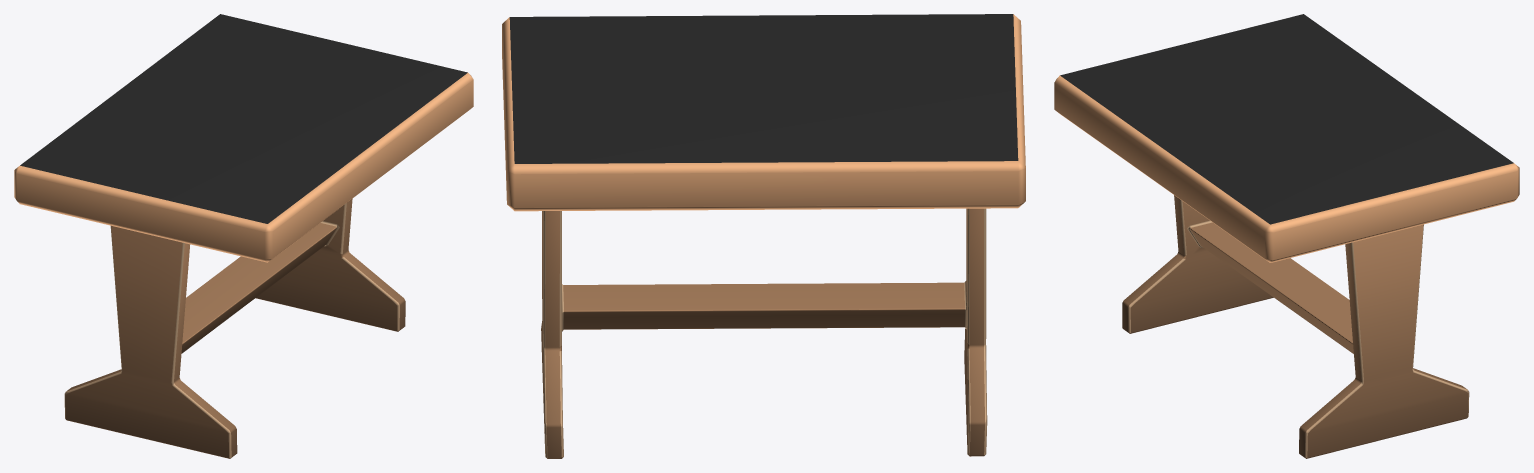
The model's file is art-room-table.glb.
The picture shows the model from 3 angles, left to right: view 1: azimuth 30°, elevation 25°; view 2: azimuth 150°, elevation 25°; view 3: azimuth 270°, elevation 25°; orthographic projection. The views are drawn at different scales.
Visible parts, largest first — view 1: Object_6; view 2: Object_6; view 3: Object_6.
Boxes of the visible parts, x1,y1,x2,y2 form: Object_6: [14, 14, 473, 458]; Object_6: [502, 14, 1025, 458]; Object_6: [1054, 14, 1519, 458].
Size of the model in its own units: 2.58 by 1.44 by 2.35.
1 material, 1 textured.
